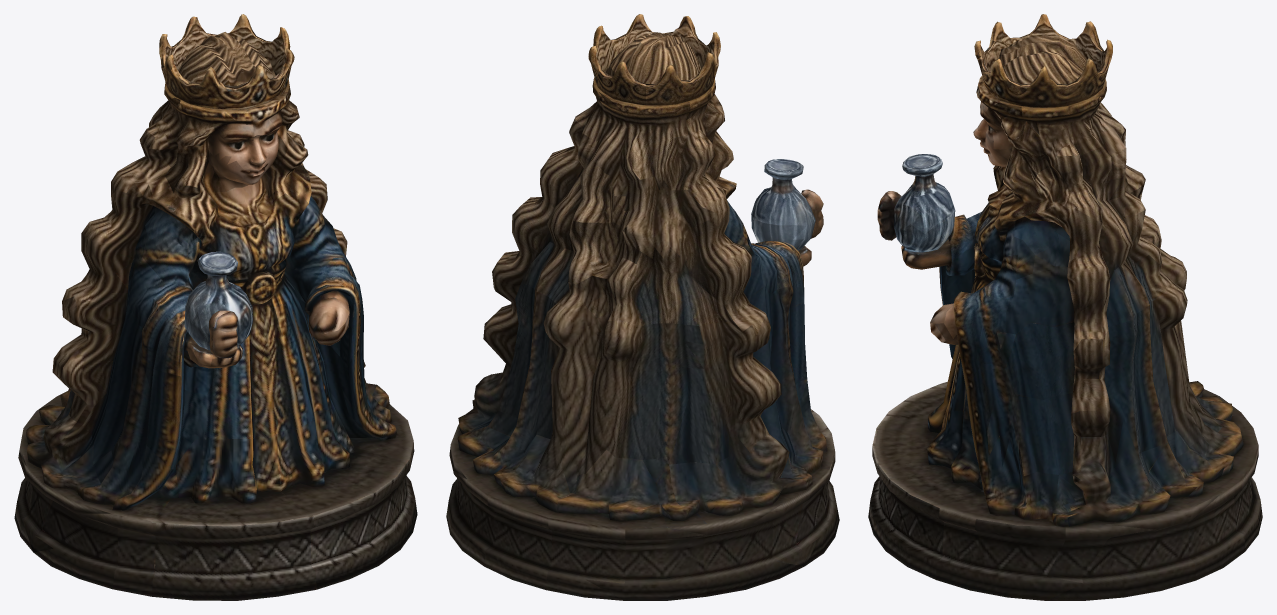
Rendered from elf_queen.glb.
The picture shows the model from 3 angles, left to right: view 1: azimuth 30°, elevation 25°; view 2: azimuth 150°, elevation 25°; view 3: azimuth 270°, elevation 25°; orthographic projection. The views are drawn at different scales.
Parts seen in each view (by area): view 1: mesh_node; view 2: mesh_node; view 3: mesh_node.
Boxes of the visible parts, left/top/right/bottom form: mesh_node: left=14, top=14, right=417, bottom=600; mesh_node: left=446, top=14, right=839, bottom=600; mesh_node: left=868, top=14, right=1262, bottom=600.
Size of the model in its own units: 0.7539 by 1 by 0.748.
1 material, 1 textured.
